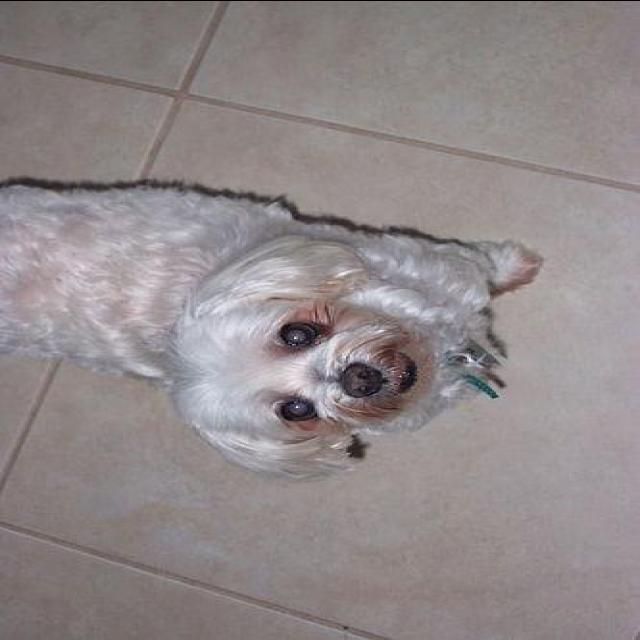maltese_dog: (0, 179, 544, 480)
